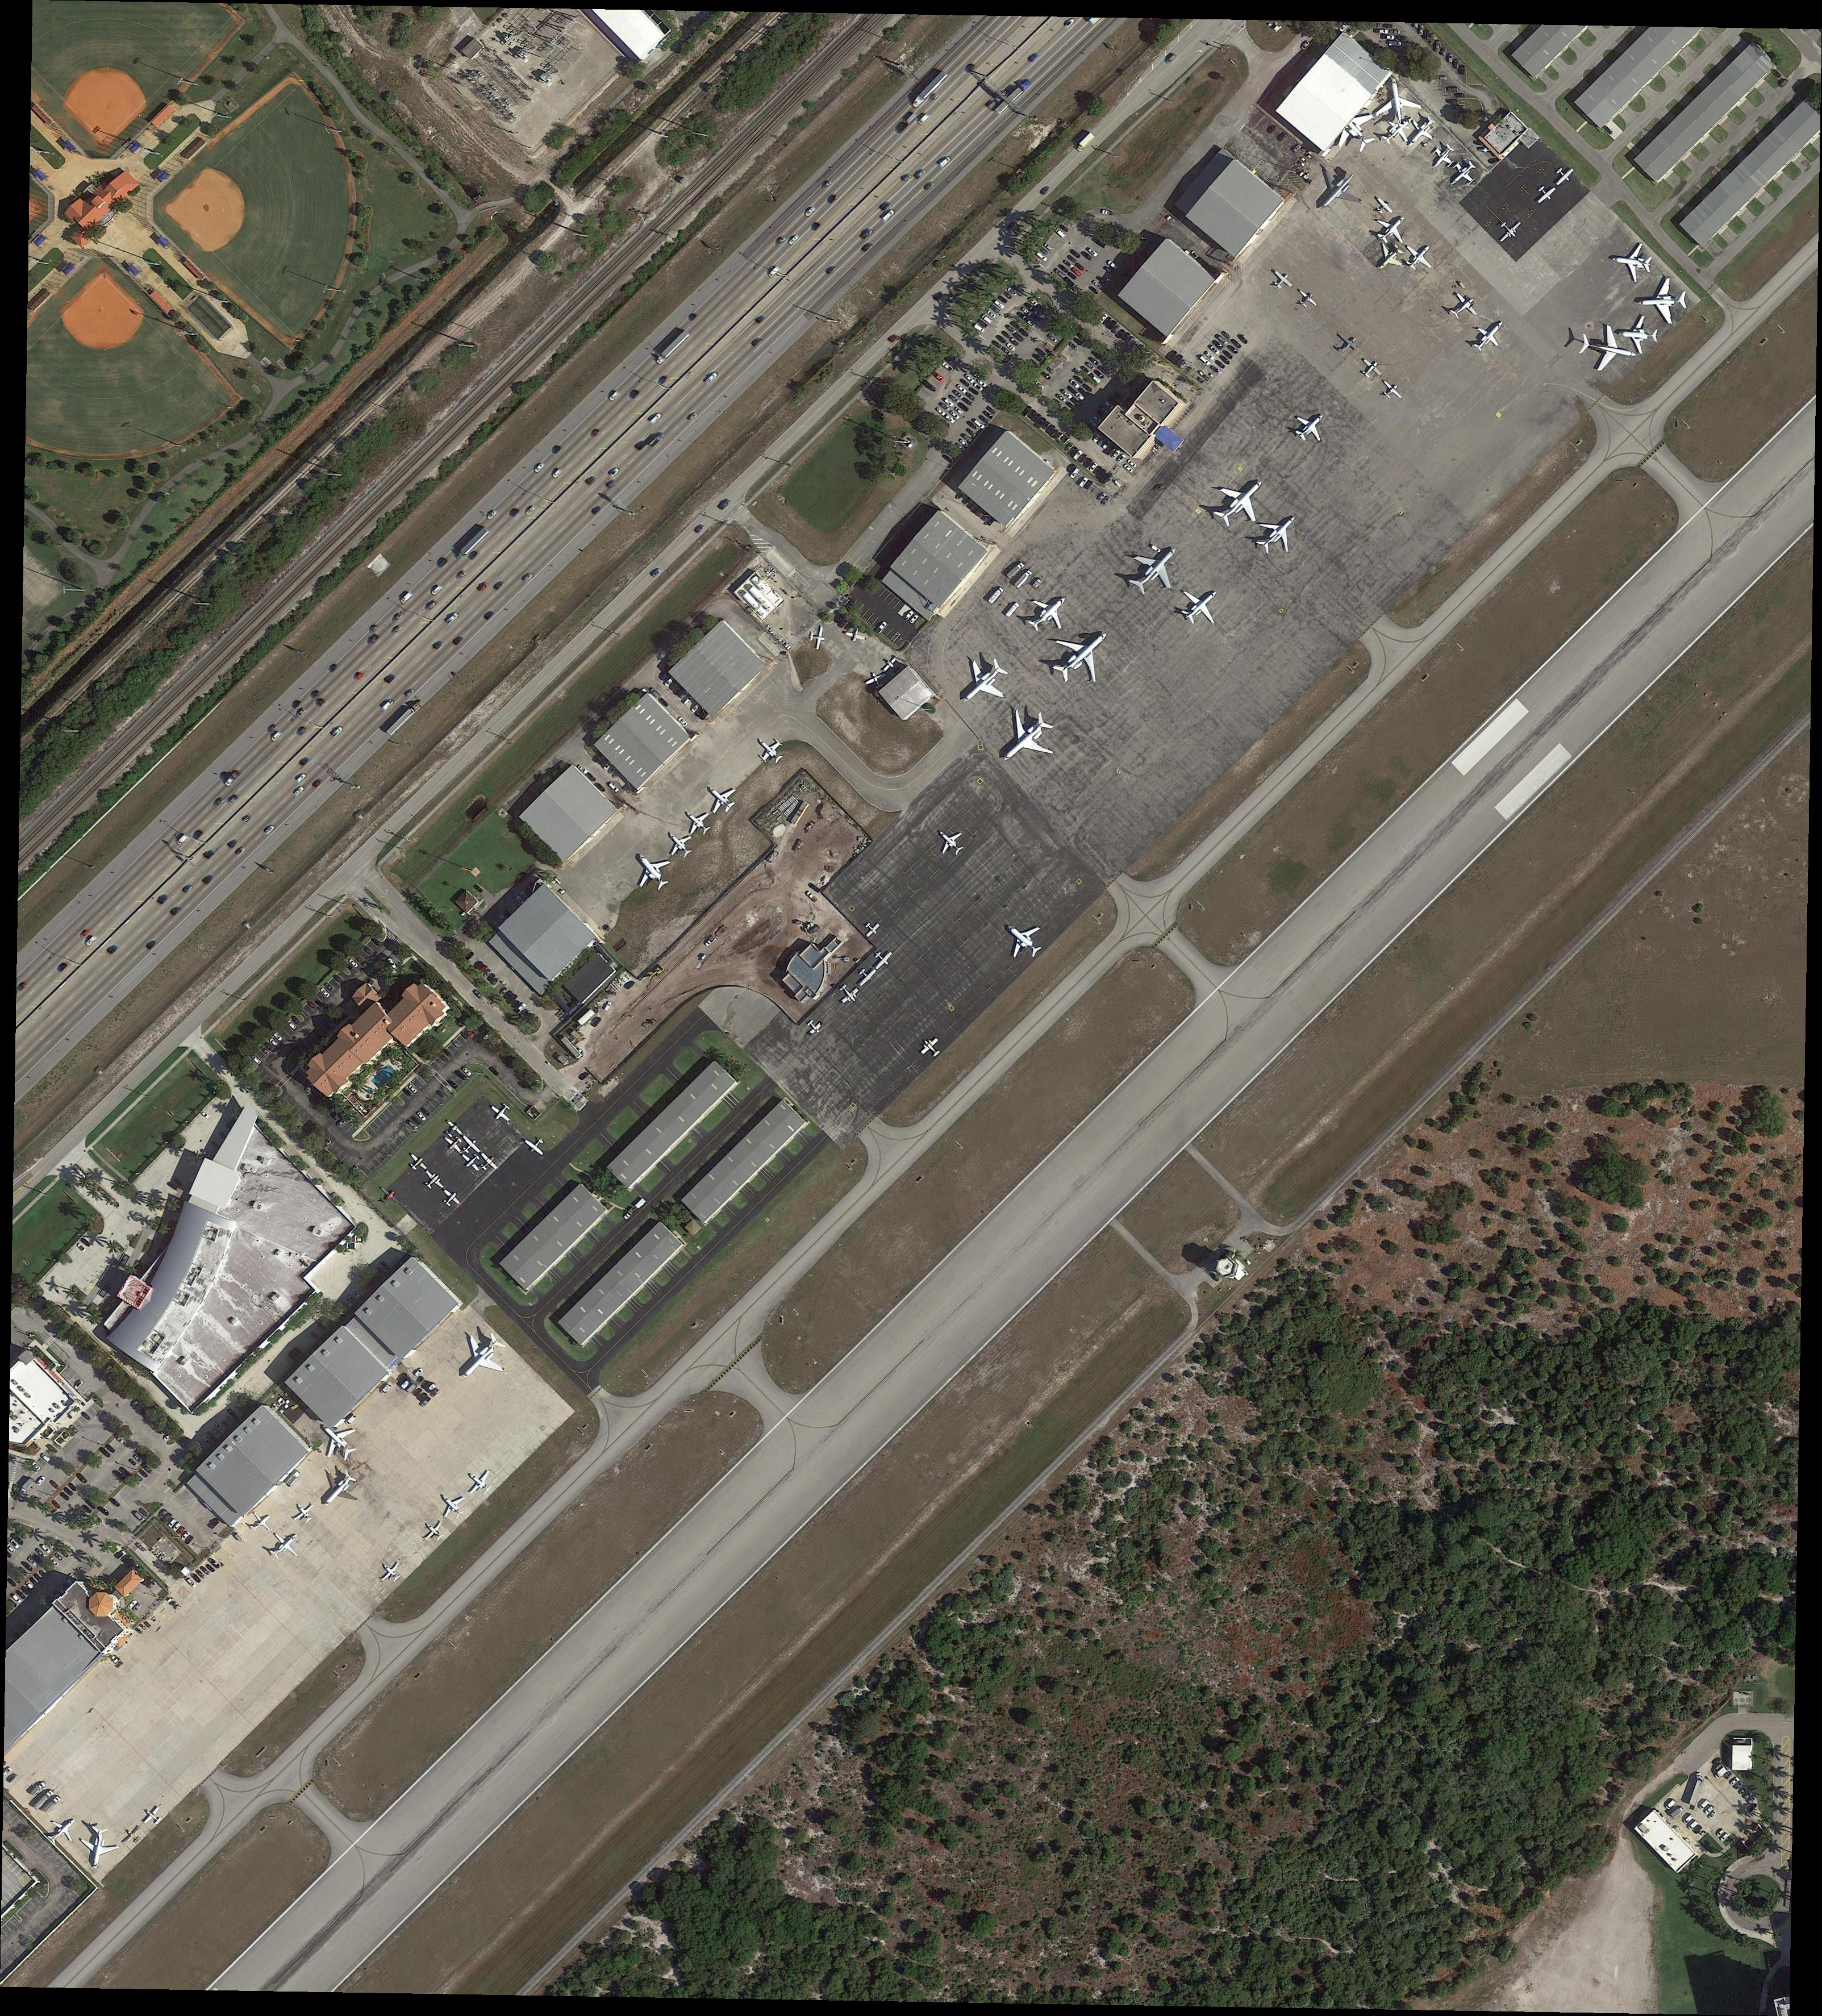plane: (1039, 609, 1125, 695), (985, 697, 1069, 781), (1118, 532, 1192, 606), (948, 648, 1022, 722), (1206, 464, 1278, 537), (446, 1322, 518, 1396), (1304, 160, 1371, 225), (1575, 321, 1643, 379), (1248, 502, 1309, 564), (1171, 572, 1230, 634), (1018, 581, 1078, 643), (309, 1410, 369, 1468), (625, 843, 681, 901), (311, 1463, 369, 1519), (997, 910, 1051, 968), (1371, 77, 1425, 132), (74, 1823, 125, 1872), (1636, 276, 1687, 325), (1287, 402, 1334, 451), (1367, 205, 1417, 253), (1466, 311, 1513, 358), (1608, 237, 1655, 284), (1374, 107, 1422, 153), (262, 1523, 307, 1568), (1397, 235, 1443, 281), (700, 774, 742, 822), (1367, 237, 1411, 281), (1617, 314, 1661, 356), (1401, 111, 1443, 155), (40, 1811, 84, 1851), (930, 820, 971, 862), (750, 729, 790, 769), (432, 1484, 472, 1524), (1443, 155, 1483, 195), (660, 824, 699, 866), (678, 803, 716, 843), (462, 1463, 500, 1501), (1445, 288, 1483, 327), (286, 1496, 321, 1530), (1427, 140, 1460, 176), (1492, 212, 1525, 248), (246, 1507, 277, 1540), (418, 1516, 449, 1547), (1332, 330, 1364, 360), (486, 1098, 518, 1127), (376, 1558, 407, 1588), (867, 945, 897, 975), (834, 980, 864, 1010), (916, 1034, 946, 1064), (1357, 355, 1385, 385), (1292, 286, 1322, 314), (1267, 267, 1297, 295), (1376, 378, 1406, 406), (458, 1147, 486, 1175), (853, 962, 879, 990), (441, 1131, 469, 1157), (119, 1823, 146, 1851), (420, 1168, 448, 1194), (523, 1131, 549, 1159), (476, 1148, 502, 1177), (456, 1133, 484, 1159), (441, 1115, 467, 1143), (437, 1184, 463, 1212), (1531, 181, 1559, 207), (1550, 162, 1576, 190), (376, 1184, 402, 1210), (140, 1805, 167, 1832), (405, 1150, 432, 1175), (879, 655, 904, 680), (1371, 197, 1395, 221), (807, 623, 829, 652), (864, 669, 888, 692), (802, 1015, 825, 1040), (843, 623, 869, 644), (860, 918, 883, 941)
